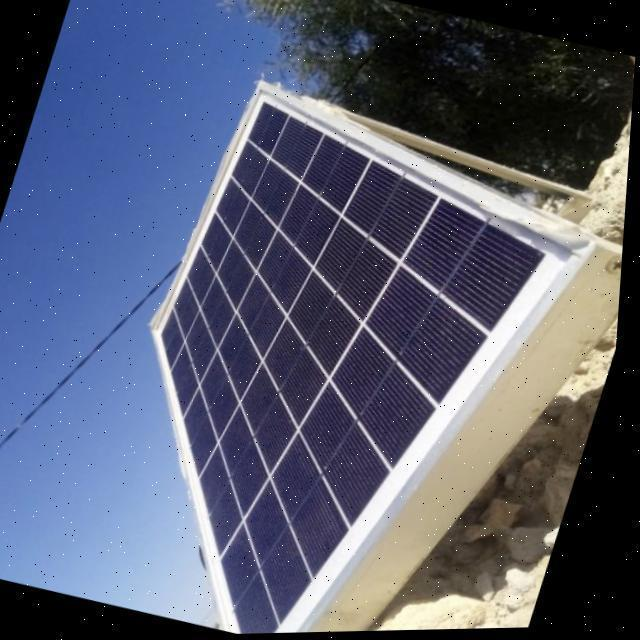Normal Solar Panel: (70, 72, 628, 638)
